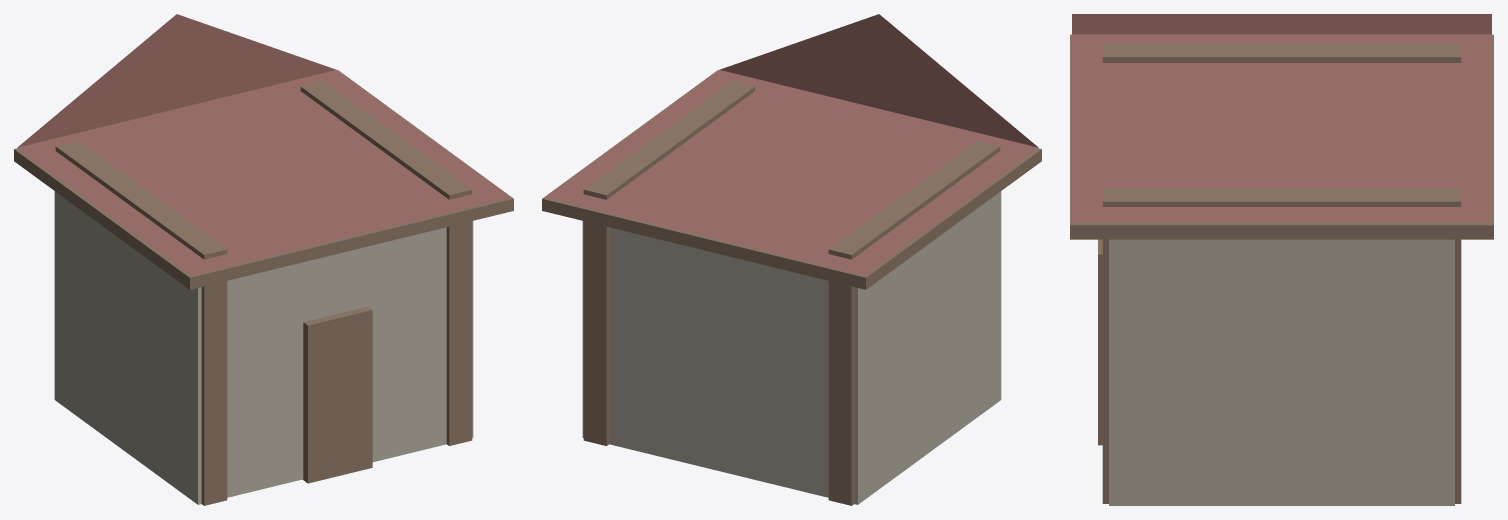
The model's file is casa_modular.glb.
3 renders of one model, left to right at view 1: azimuth 30°, elevation 25°; view 2: azimuth 150°, elevation 25°; view 3: azimuth 270°, elevation 25°, orthographic. The views are drawn at different scales.
Parts seen in each view (by area): view 1: part_000, part_004, part_003, part_001, part_002, part_005; view 2: part_000, part_004, part_001, part_002, part_005; view 3: part_000, part_004, part_002, part_005, part_001, part_003.
Boxes of the visible parts, <box> form: part_000: <box>54,191,473,504</box>; part_004: <box>17,14,510,275</box>; part_003: <box>302,306,372,483</box>; part_001: <box>55,140,227,505</box>; part_002: <box>300,81,472,445</box>; part_005: <box>14,70,513,289</box>; part_000: <box>582,191,1001,504</box>; part_004: <box>545,14,1038,275</box>; part_001: <box>828,140,1000,505</box>; part_002: <box>583,81,755,445</box>; part_005: <box>542,70,1041,289</box>; part_000: <box>1109,239,1454,505</box>; part_004: <box>1072,14,1491,222</box>; part_002: <box>1102,188,1461,503</box>; part_005: <box>1070,34,1493,239</box>; part_001: <box>1102,43,1461,62</box>; part_003: <box>1098,239,1102,445</box>.
Size of the model in its own units: 3.65 by 3.68 by 3.43.
